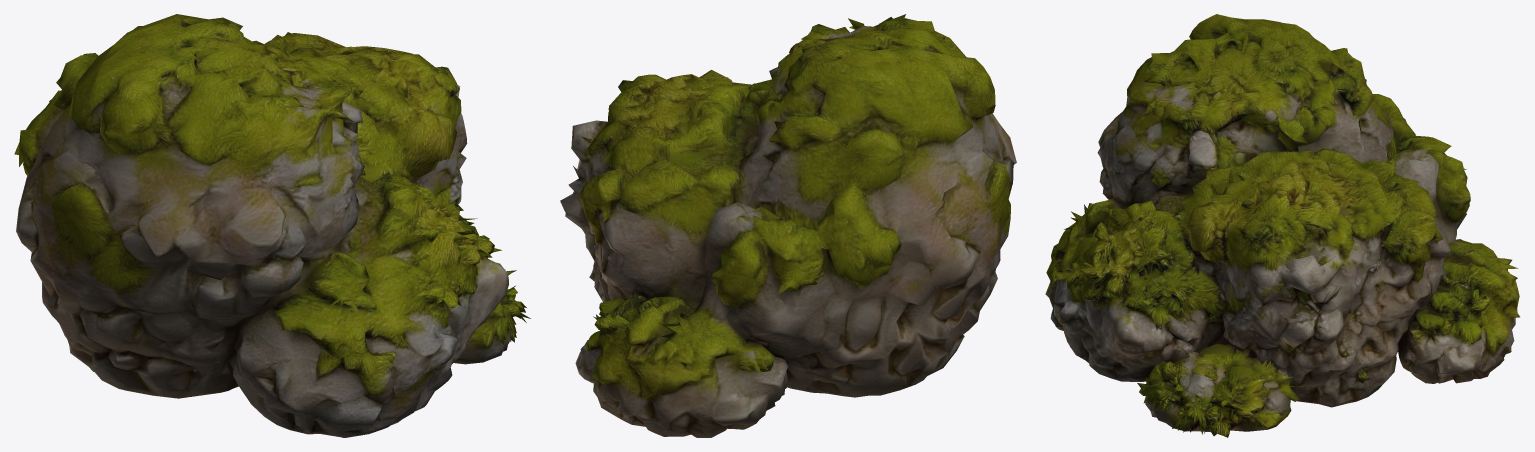
File: mossy-rock-1.glb
The picture shows the model from 3 angles, left to right: view 1: azimuth 30°, elevation 25°; view 2: azimuth 150°, elevation 25°; view 3: azimuth 270°, elevation 25°; orthographic projection. The views are drawn at different scales.
Visible parts, largest first — view 1: tripo_node_3c5b4db6-c02c-4976-bf1e-b486f196be44; view 2: tripo_node_3c5b4db6-c02c-4976-bf1e-b486f196be44; view 3: tripo_node_3c5b4db6-c02c-4976-bf1e-b486f196be44.
Boxes of the visible parts, x1,y1,x2,y2 form: tripo_node_3c5b4db6-c02c-4976-bf1e-b486f196be44: (14, 14, 530, 437); tripo_node_3c5b4db6-c02c-4976-bf1e-b486f196be44: (560, 14, 1016, 437); tripo_node_3c5b4db6-c02c-4976-bf1e-b486f196be44: (1045, 14, 1519, 437).
Size of the model in its own units: 0.8905 by 0.6448 by 0.9792.
Materials: 1 (1 with a texture image).
